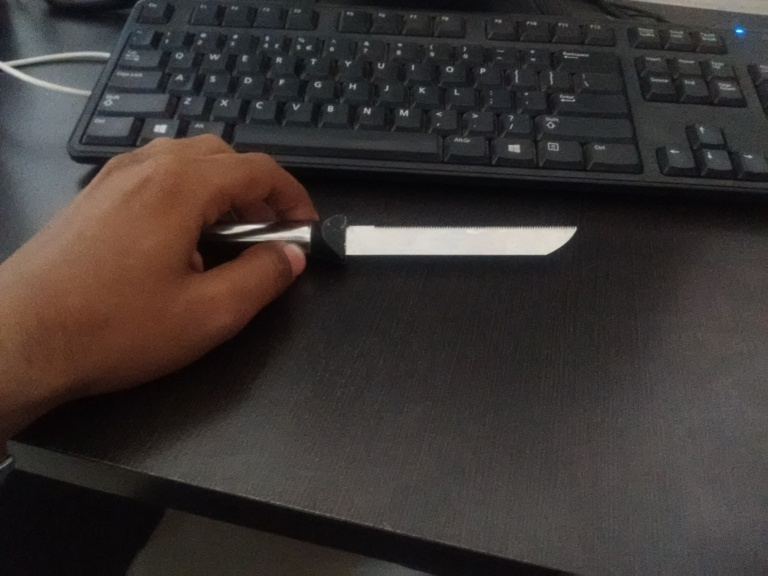knife: (309, 213, 578, 261)
